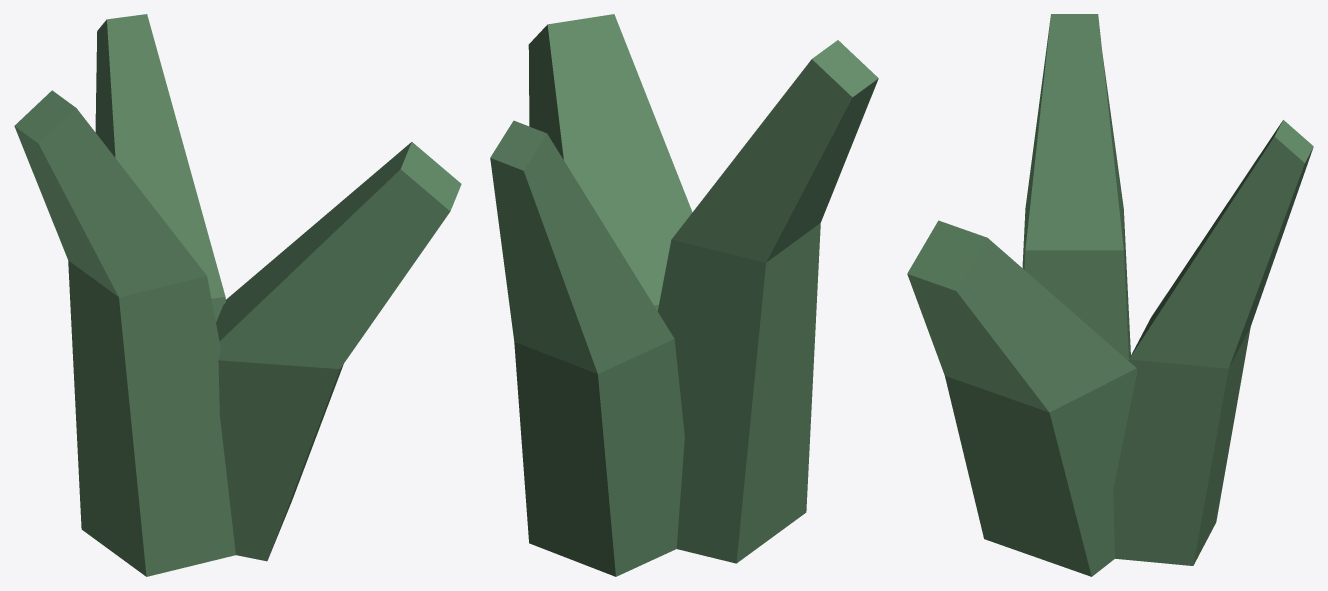
The model's file is Grass001.glb.
3 views of the same model, side by side, from view 1: azimuth 30°, elevation 25°; view 2: azimuth 150°, elevation 25°; view 3: azimuth 270°, elevation 25° (orthographic). The views are drawn at different scales.
Visible parts, largest first — view 1: Grass.001; view 2: Grass.001; view 3: Grass.001.
Boxes of the visible parts, x1=… form: Grass.001: x1=14, y1=14, x2=461, y2=576; Grass.001: x1=490, y1=14, x2=878, y2=576; Grass.001: x1=907, y1=14, x2=1313, y2=576.
Size of the model in its own units: 0.218 by 0.2596 by 0.212.
